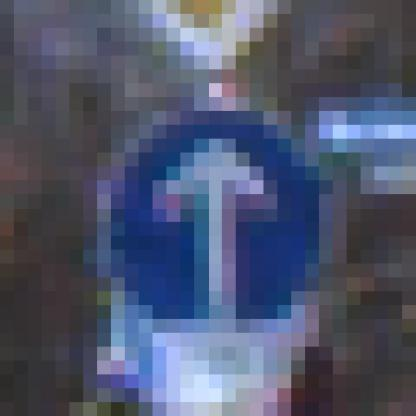AheadOnly: (84, 84, 348, 348)
